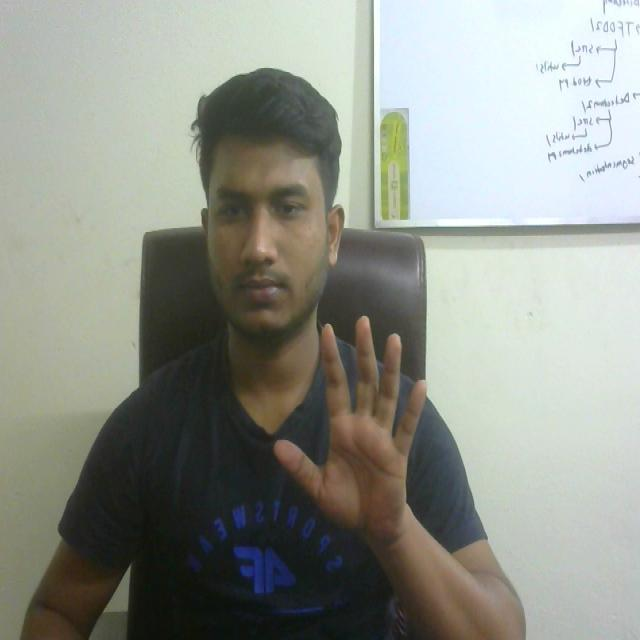A: (267, 320, 442, 549)
